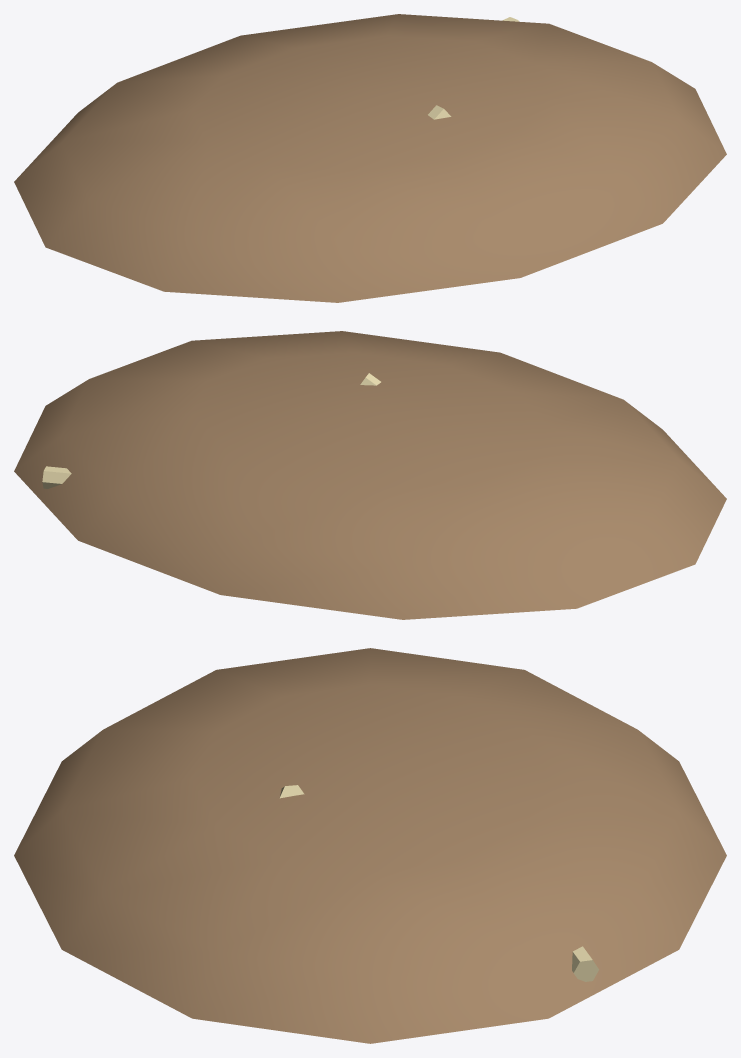
Rendered from Benthik_Sticks.fbx.
3 views of the same model, one above another, from view 1: azimuth 30°, elevation 25°; view 2: azimuth 150°, elevation 25°; view 3: azimuth 270°, elevation 25° (orthographic). The views are drawn at different scales.
Parts seen in each view (by area): view 1: Benthik_Sticks; view 2: Benthik_Sticks; view 3: Benthik_Sticks.
Part boxes in pixels (x1,y1,x2,y2): Benthik_Sticks: (14,14,726,302); Benthik_Sticks: (14,331,726,619); Benthik_Sticks: (14,648,726,1043).
Size of the model in its own units: 0.8 by 0.1002 by 0.64.
